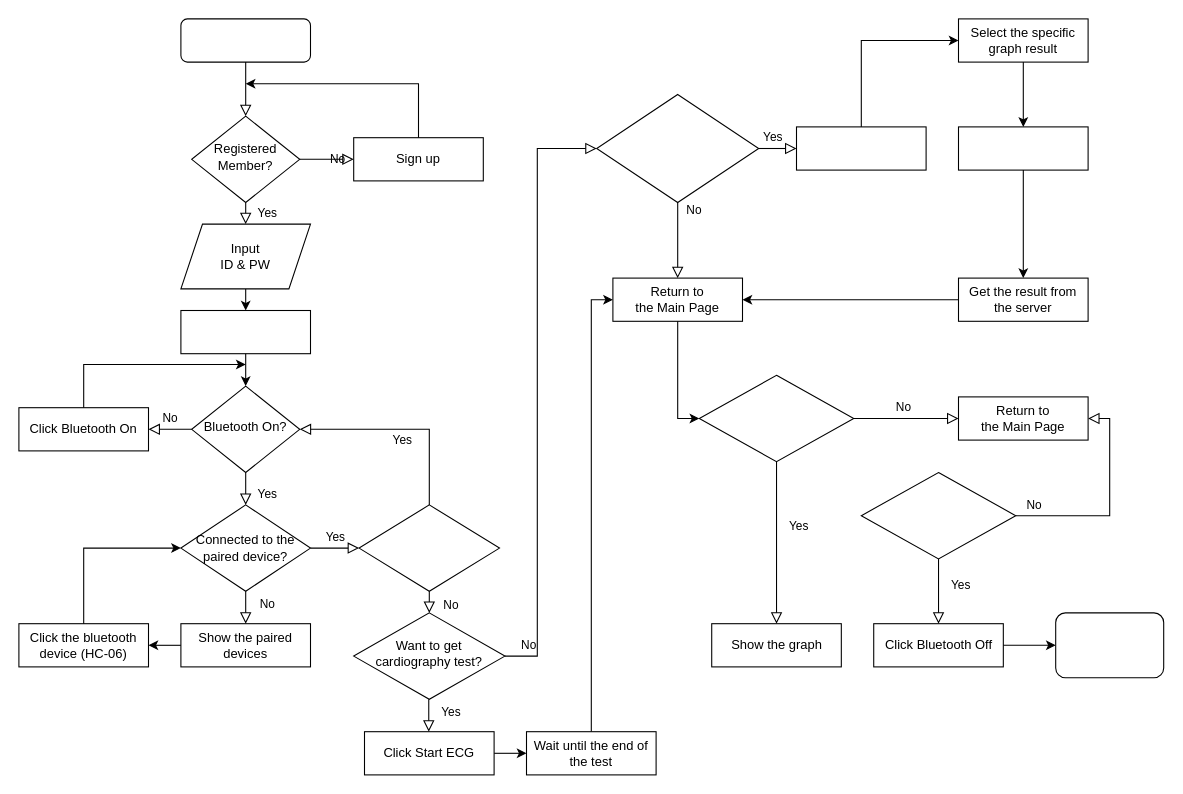
Image size: 1183x794. Some labels were removed from this diagram. Here are the shapes that lost their labels. From the top down, the box of each, then its label:
(180, 18, 310, 62): Application Start
(596, 93, 759, 202): Want to see the previous test results?
(795, 126, 926, 170): Click Get user previous result
(957, 126, 1088, 170): Request the result data to the server
(180, 309, 310, 354): Sign in
(698, 374, 854, 462): Want to see the graph result?
(860, 471, 1016, 559): Want to disconnect the bluetooth device?
(358, 504, 500, 591): Want to disconnect the current device?
(1055, 612, 1164, 678): Application End
